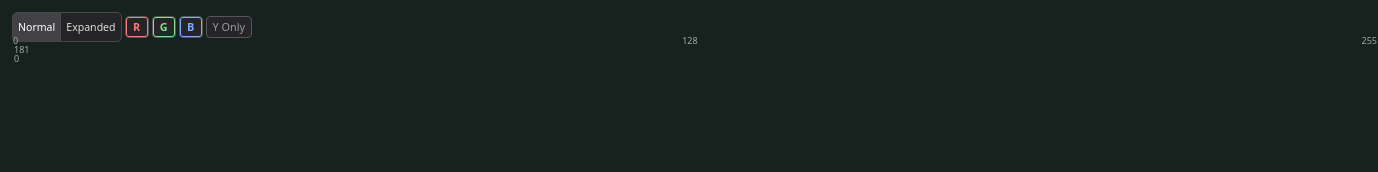
Test: ScopePanel › keeps RGB channel toggles out of the Y-only scale calculation
Click the button "Y Only" at x=229, y=27, box x1=206 y1=16 x2=252 y2=38
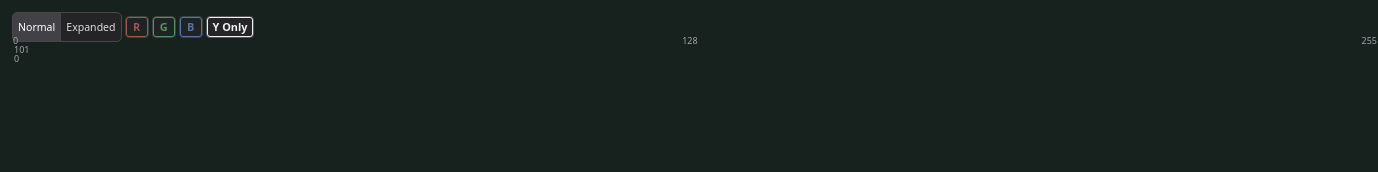
Expected: the text "101" is shown, x1=14 y1=45 x2=30 y2=54
